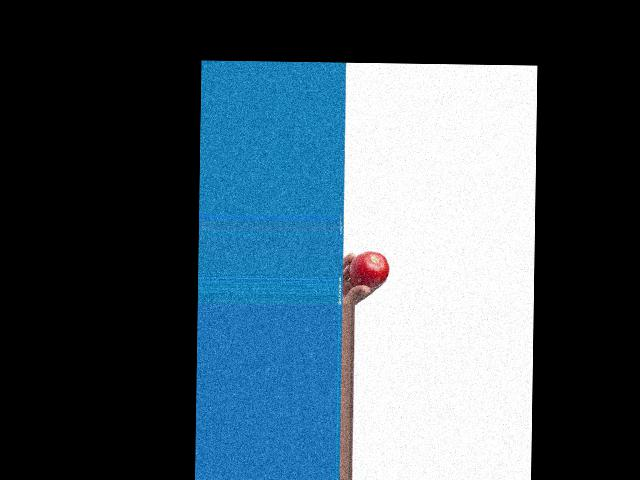tomato: (348, 250, 389, 289)
